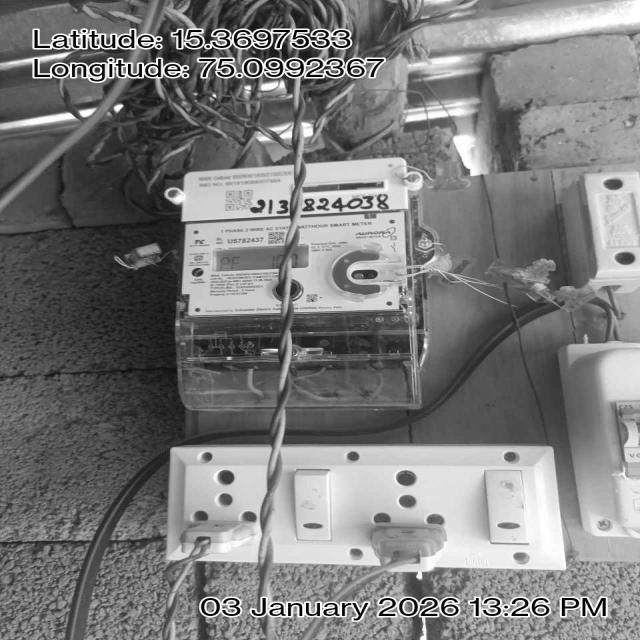meter: (162, 158, 415, 318)
